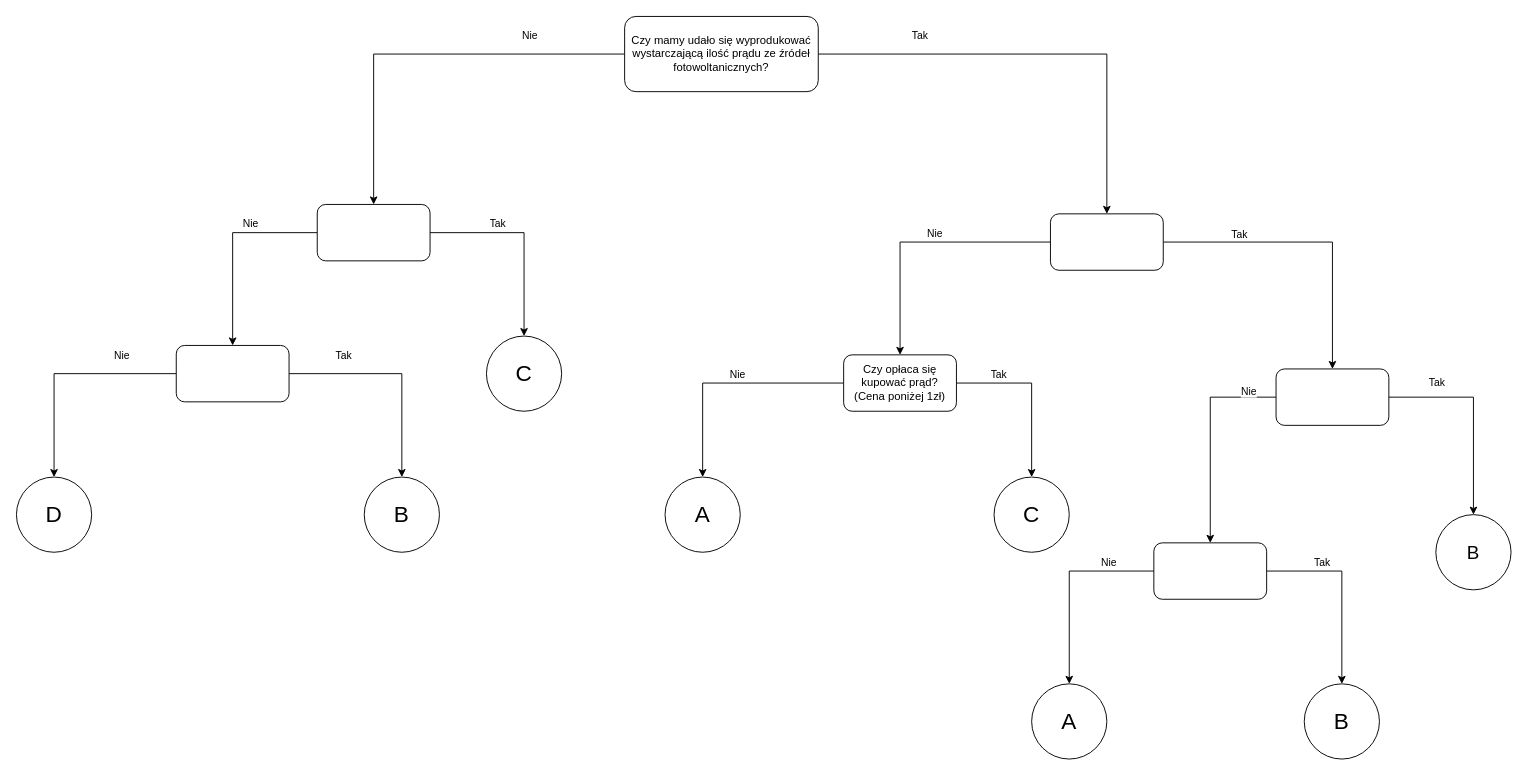
Some shapes in this 1528 by 776 pixel diagram are drawn without their labels. Here are the shapes that lost their labels. From the top down, the centre of each, then its label:
the point at 373,232: Czy można kupić prąd po najniższej cenie 0,50 zł?
the point at 1106,241: Czy pojawiła się nadwyżka?
the point at 232,373: Czy akumulator jest pusty?
the point at 1332,396: Czy opłaca się sprzedać prąd? (Cena 2.5zł)
the point at 1210,570: Czy akumulator jest pełny?
